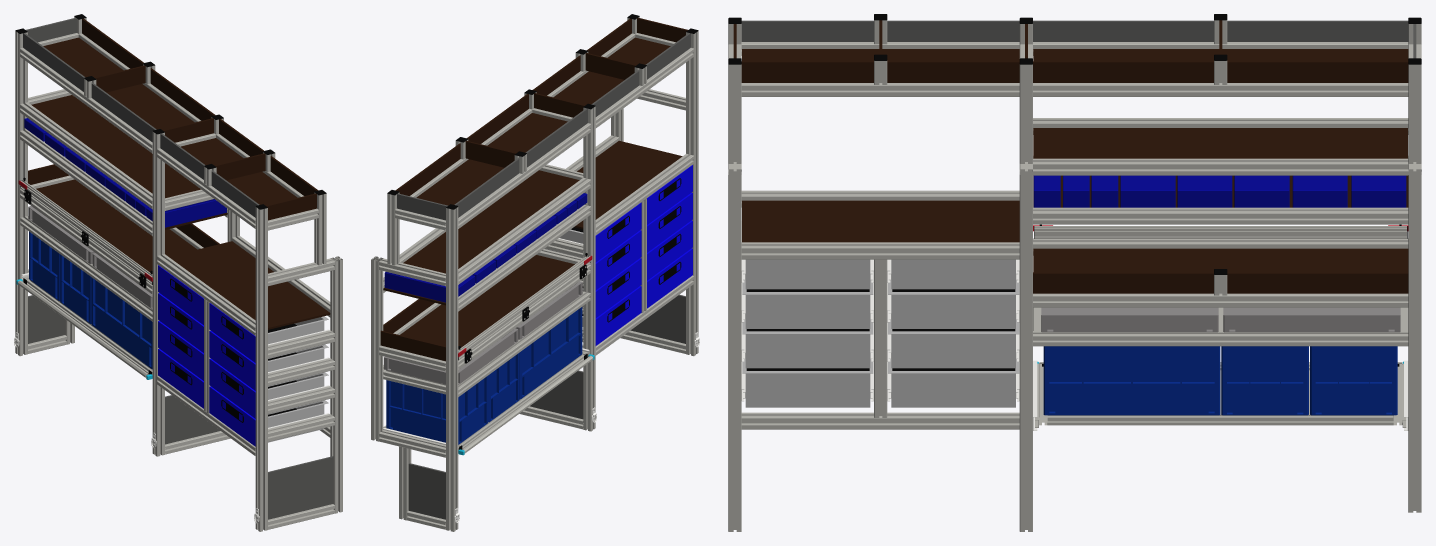
3 renders of one model, left to right at view 1: azimuth 30°, elevation 25°; view 2: azimuth 150°, elevation 25°; view 3: azimuth 270°, elevation 25°, orthographic. The views are drawn at different scales.
Visible parts, largest first — view 1: n0, n10, n18, n26, n30, n22, n8, n2, n12, n14, n28, n20 (+5 smaller); view 2: n0, n12, n10, n8, n48, n16, n2, n14, n28, n24, n20, n22 (+5 smaller); view 3: n0, n10, n12, n14, n22, n30, n26, n24, n20, n28, n8, n2 (+12 smaller).
Boxes of the visible parts, x1=… form: n0: x1=14, y1=14, x2=342, y2=531; n10: x1=91, y1=277, x2=152, y2=369; n18: x1=209, y1=303, x2=328, y2=362; n26: x1=209, y1=358, x2=328, y2=418; n30: x1=209, y1=386, x2=328, y2=446; n22: x1=209, y1=330, x2=328, y2=390; n8: x1=16, y1=275, x2=152, y2=379; n2: x1=18, y1=180, x2=152, y2=284; n12: x1=29, y1=231, x2=60, y2=300; n14: x1=60, y1=254, x2=91, y2=323; n28: x1=158, y1=348, x2=203, y2=408; n20: x1=158, y1=293, x2=203, y2=352; n0: x1=371, y1=14, x2=699, y2=531; n12: x1=386, y1=376, x2=487, y2=444; n10: x1=519, y1=307, x2=582, y2=399; n8: x1=383, y1=351, x2=594, y2=455; n48: x1=384, y1=328, x2=518, y2=384; n16: x1=544, y1=202, x2=641, y2=262; n2: x1=458, y1=255, x2=592, y2=360; n14: x1=488, y1=353, x2=519, y2=422; n28: x1=582, y1=286, x2=641, y2=345; n24: x1=582, y1=258, x2=641, y2=317; n20: x1=583, y1=230, x2=641, y2=290; n22: x1=647, y1=192, x2=692, y2=252; n0: x1=728, y1=14, x2=1421, y2=531; n10: x1=1043, y1=346, x2=1220, y2=415; n12: x1=1310, y1=346, x2=1397, y2=415; n14: x1=1221, y1=346, x2=1308, y2=415; n22: x1=742, y1=280, x2=873, y2=328; n30: x1=742, y1=359, x2=873, y2=407; n26: x1=742, y1=319, x2=873, y2=368; n24: x1=888, y1=319, x2=1019, y2=368; n20: x1=888, y1=280, x2=1019, y2=328; n28: x1=888, y1=359, x2=1019, y2=407; n8: x1=1035, y1=361, x2=1406, y2=427; n2: x1=1033, y1=225, x2=1408, y2=238.
Bounding box in the file's own units: 483 × 1717 × 2341.
